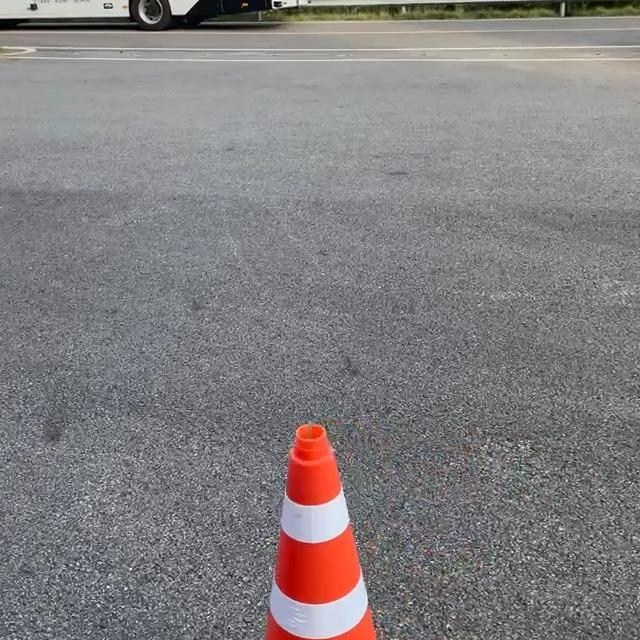fallen_object: (257, 331, 368, 640)
